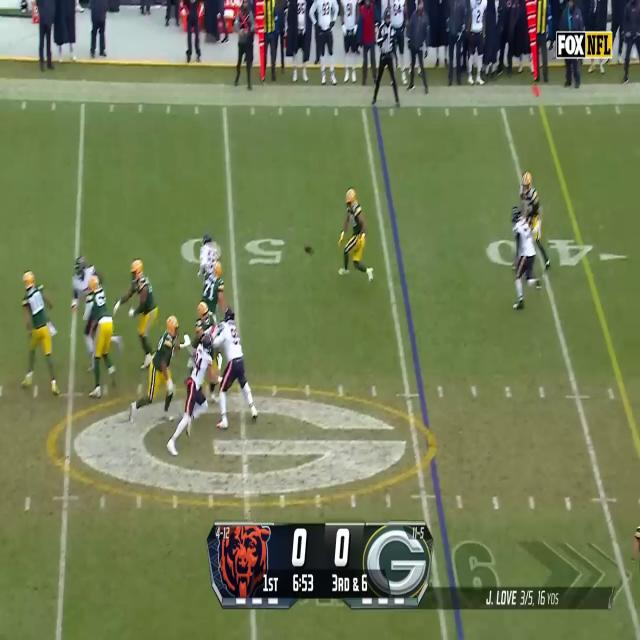Player: (115, 256, 160, 365), (86, 274, 123, 399), (22, 270, 58, 396), (143, 316, 181, 425), (180, 335, 212, 460), (215, 306, 247, 427), (339, 187, 368, 283), (511, 209, 535, 315), (203, 256, 226, 310), (524, 171, 542, 236)
Referee: (376, 9, 401, 105)
